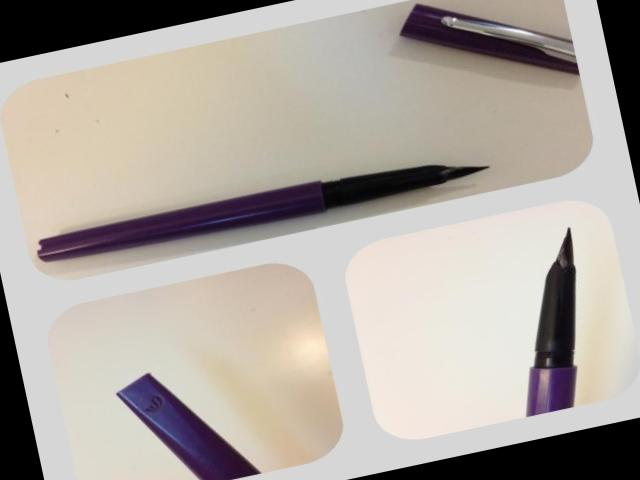PEN: (24, 134, 496, 283), (519, 219, 589, 424)
